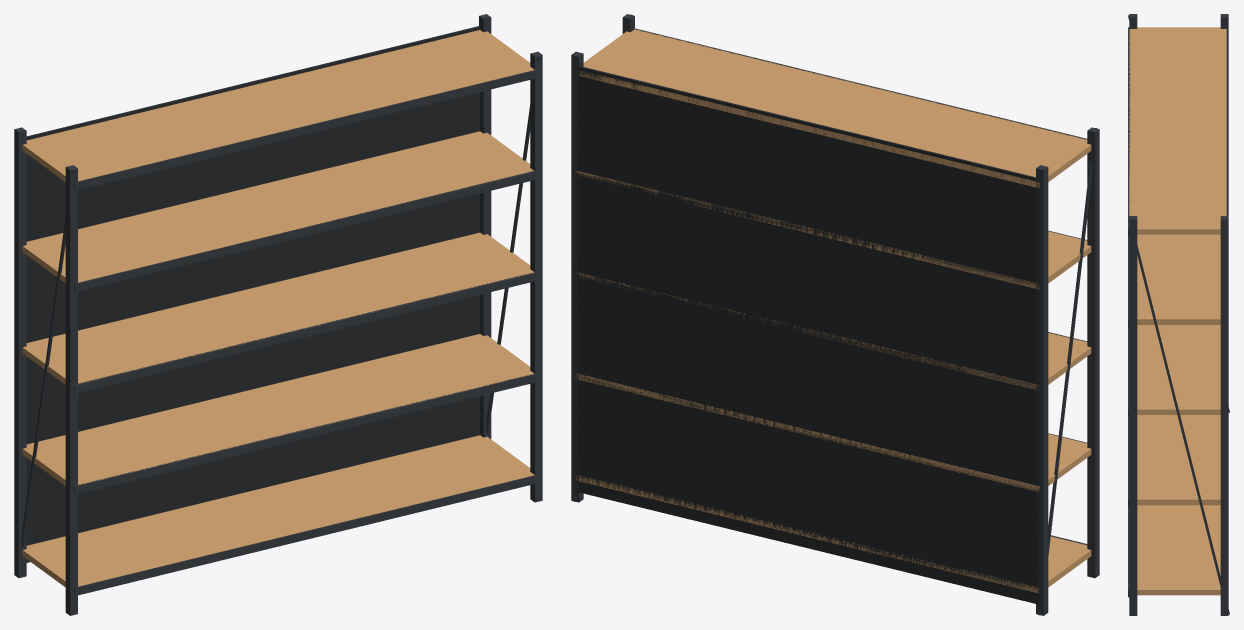
The model's file is parts-shelf.glb.
3 renders of one model, left to right at view 1: azimuth 30°, elevation 25°; view 2: azimuth 150°, elevation 25°; view 3: azimuth 270°, elevation 25°, orthographic. The views are drawn at different scales.
Parts seen in each view (by area): view 1: parts-shelf, shelf4, shelf0, shelf1, shelf3, shelf2; view 2: parts-shelf, shelf4, shelf1, shelf0, shelf3, shelf2; view 3: shelf4, parts-shelf, shelf3, shelf0, shelf1, shelf2.
Boxes of the visible parts, bbox=[...] form: parts-shelf: bbox=[14, 14, 542, 615]; shelf4: bbox=[22, 30, 534, 181]; shelf0: bbox=[22, 435, 534, 587]; shelf1: bbox=[22, 334, 533, 485]; shelf3: bbox=[22, 131, 533, 283]; shelf2: bbox=[22, 232, 533, 384]; parts-shelf: bbox=[571, 14, 1099, 615]; shelf4: bbox=[578, 29, 1091, 188]; shelf1: bbox=[575, 373, 1091, 491]; shelf0: bbox=[575, 476, 1091, 593]; shelf3: bbox=[575, 170, 1091, 289]; shelf2: bbox=[578, 273, 1091, 389]; shelf4: bbox=[1129, 27, 1226, 234]; parts-shelf: bbox=[1128, 14, 1229, 615]; shelf3: bbox=[1137, 234, 1220, 324]; shelf0: bbox=[1137, 505, 1220, 595]; shelf1: bbox=[1137, 415, 1220, 505]; shelf2: bbox=[1137, 325, 1220, 414].
Size of the model in its own units: 2.44 by 2.2 by 0.5119.
